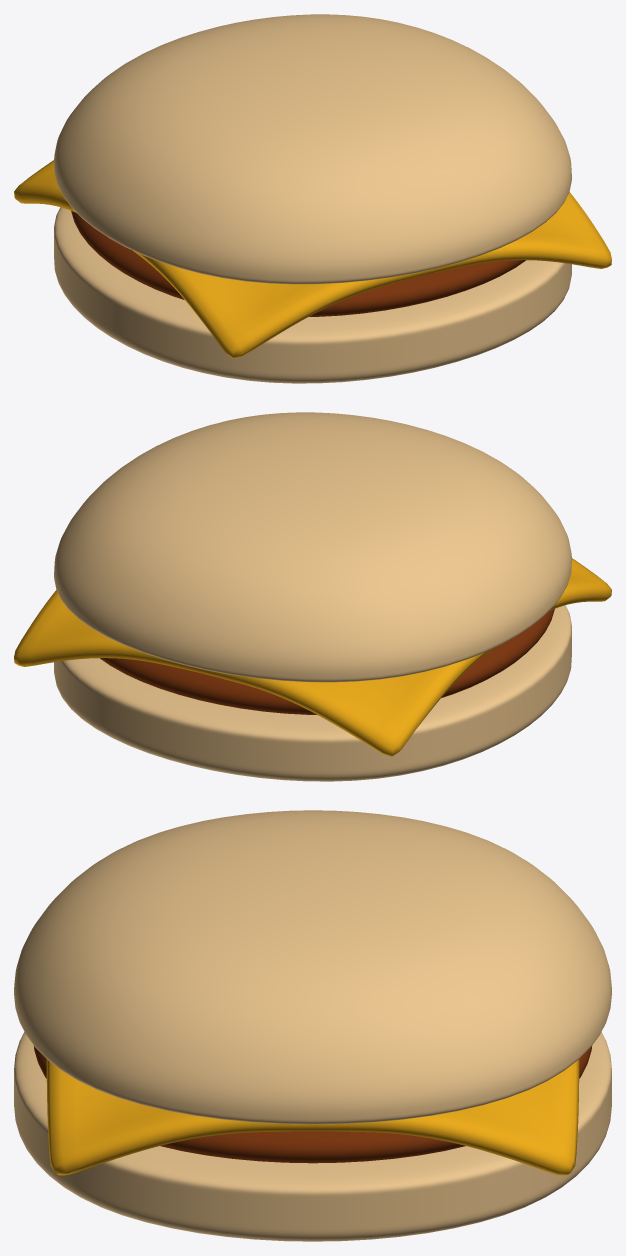
File: hamburger2.glb
3 renders of one model, top to bottom at view 1: azimuth 30°, elevation 25°; view 2: azimuth 150°, elevation 25°; view 3: azimuth 270°, elevation 25°, orthographic. The views are drawn at different scales.
Parts seen in each view (by area): view 1: topBun, bottomBun, Cheese, meat; view 2: topBun, bottomBun, Cheese, meat; view 3: topBun, bottomBun, Cheese, meat.
Part boxes in pixels (bbox=[...]): topBun: bbox=[54, 14, 571, 284]; bottomBun: bbox=[54, 207, 571, 383]; Cheese: bbox=[14, 160, 611, 358]; meat: bbox=[71, 211, 526, 316]; topBun: bbox=[54, 412, 571, 682]; bottomBun: bbox=[54, 605, 571, 781]; Cheese: bbox=[14, 558, 611, 756]; meat: bbox=[99, 609, 554, 714]; topBun: bbox=[14, 810, 611, 1124]; bottomBun: bbox=[14, 1032, 611, 1241]; Cheese: bbox=[46, 1059, 579, 1175]; meat: bbox=[33, 1045, 592, 1163].
Bounding box in the file's own units: 1.83 × 0.9052 × 1.83.
